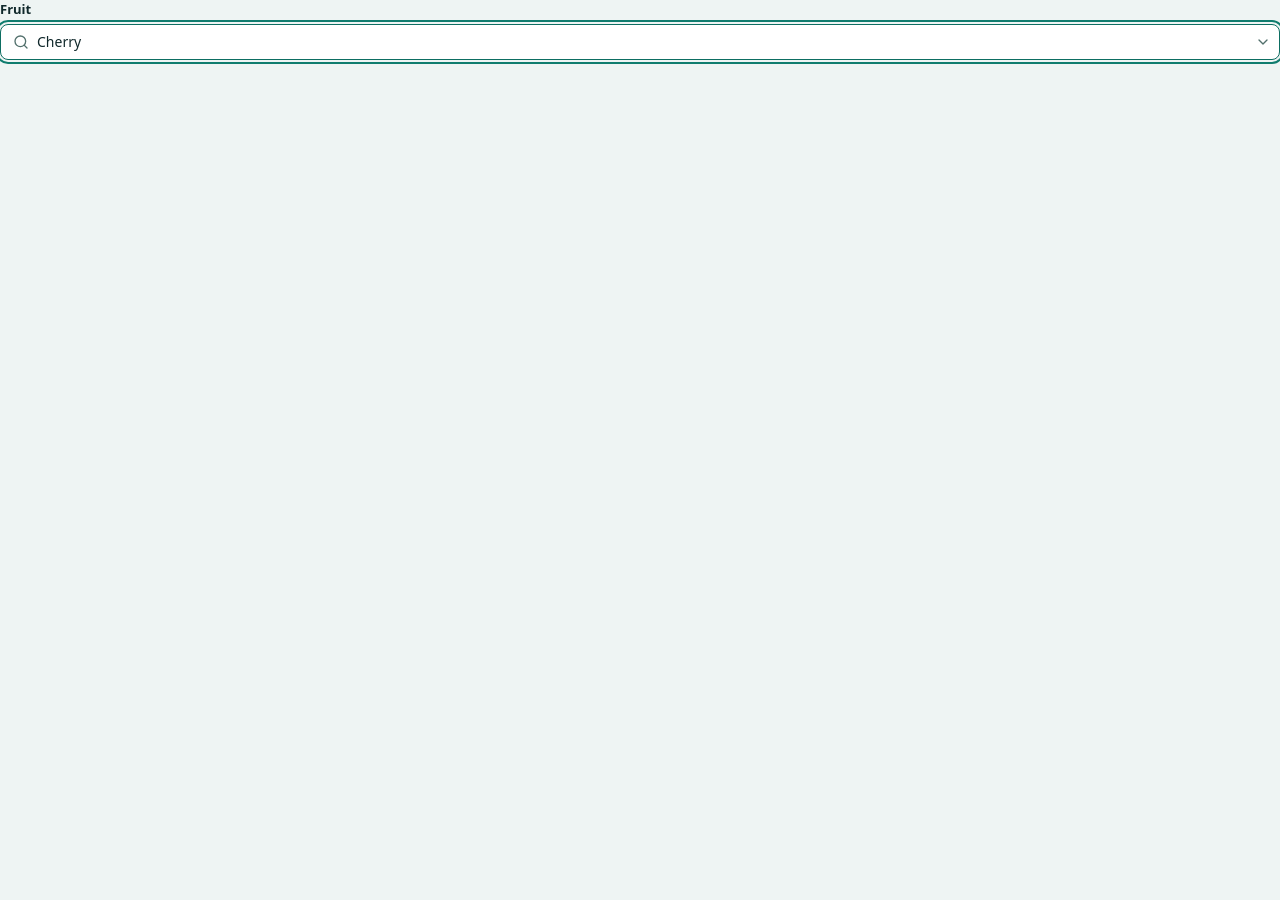
Test case: Combobox › Alt+↓ abre; Esc fecha; com a lista fechada, Esc volta ao valor escolhido
Type keys "{Alt>}{ArrowDown}{/Alt}"
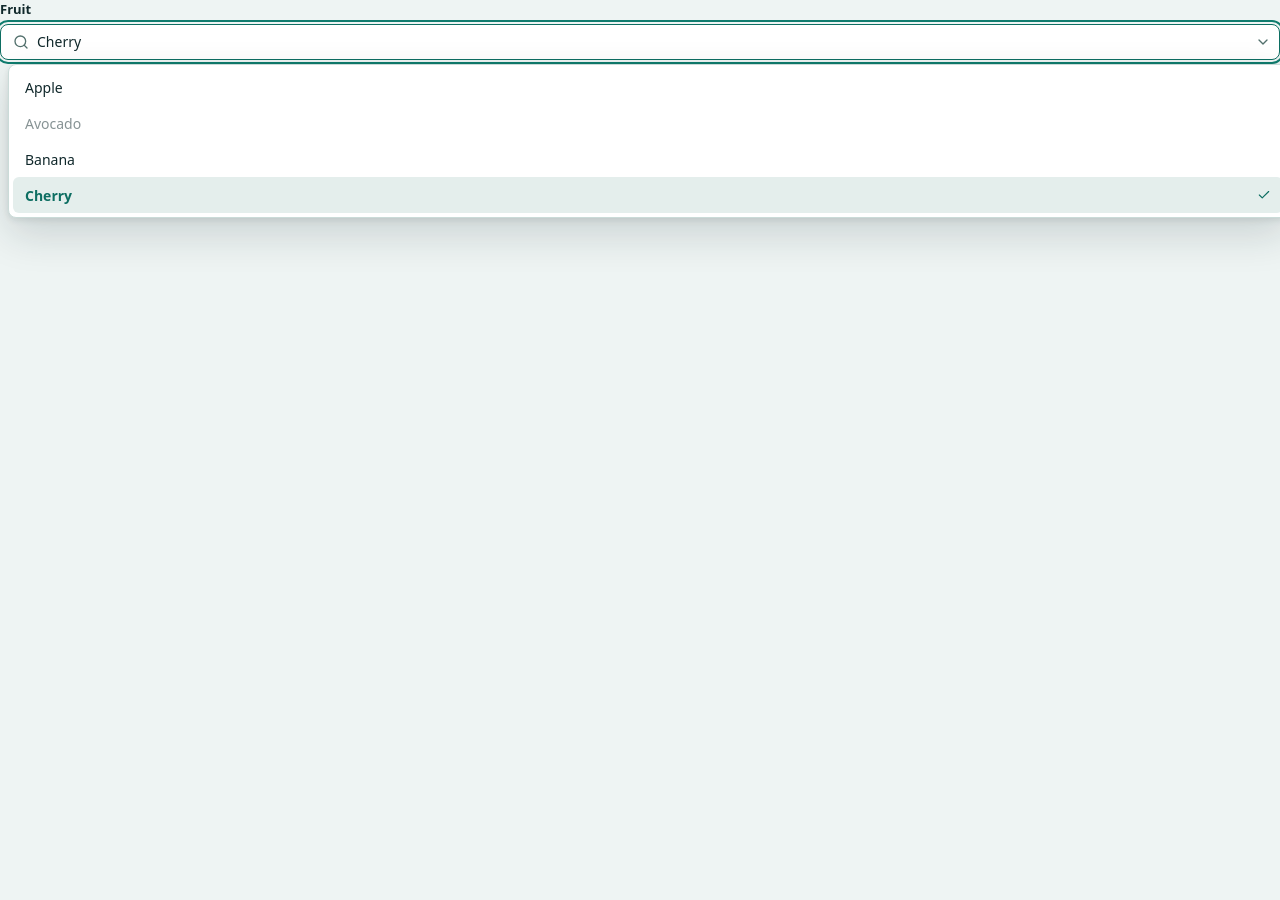
Press Escape
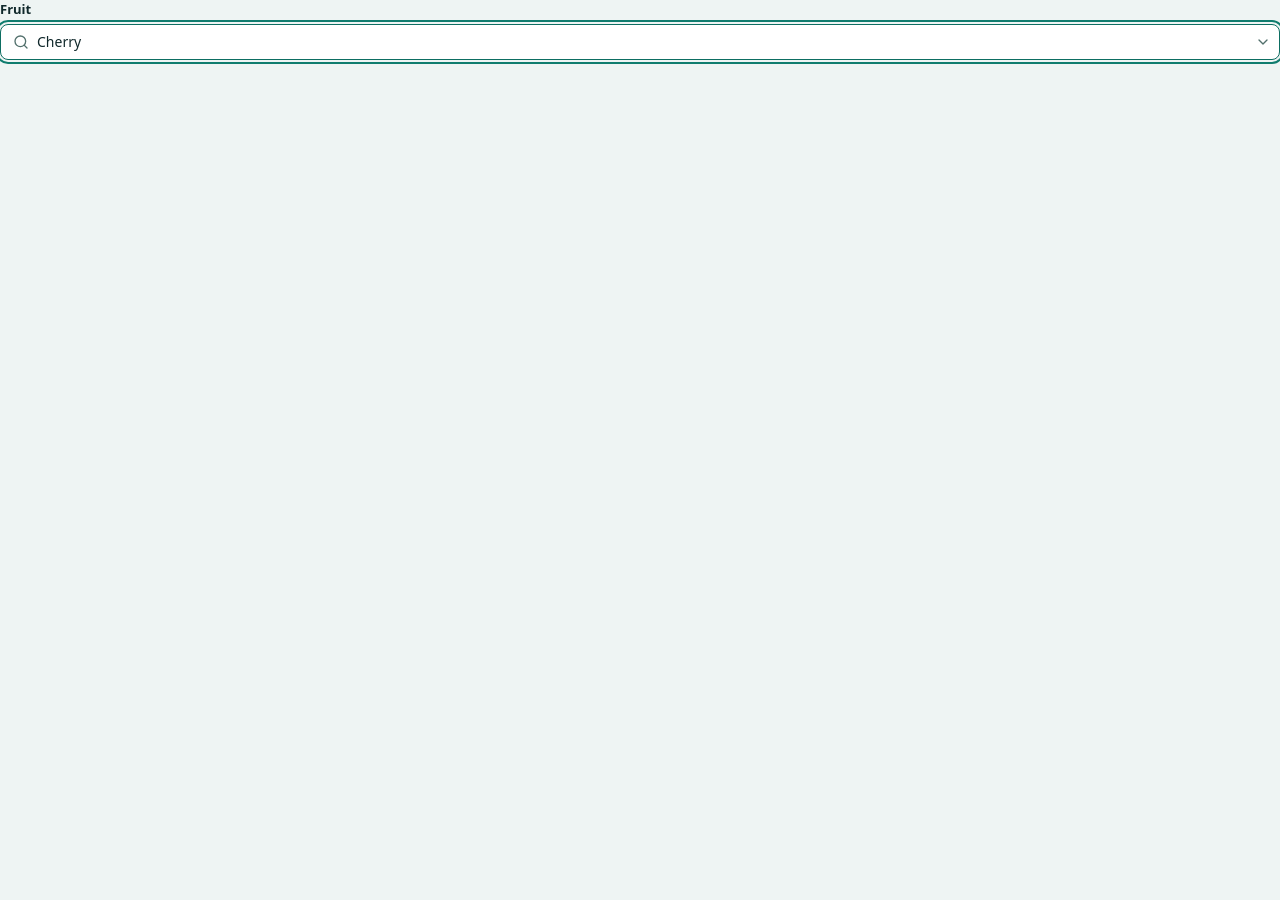
Replace the text in the dropdown labelled "Fruit" with "ban" at (640, 42), box [37, 24, 1243, 58]
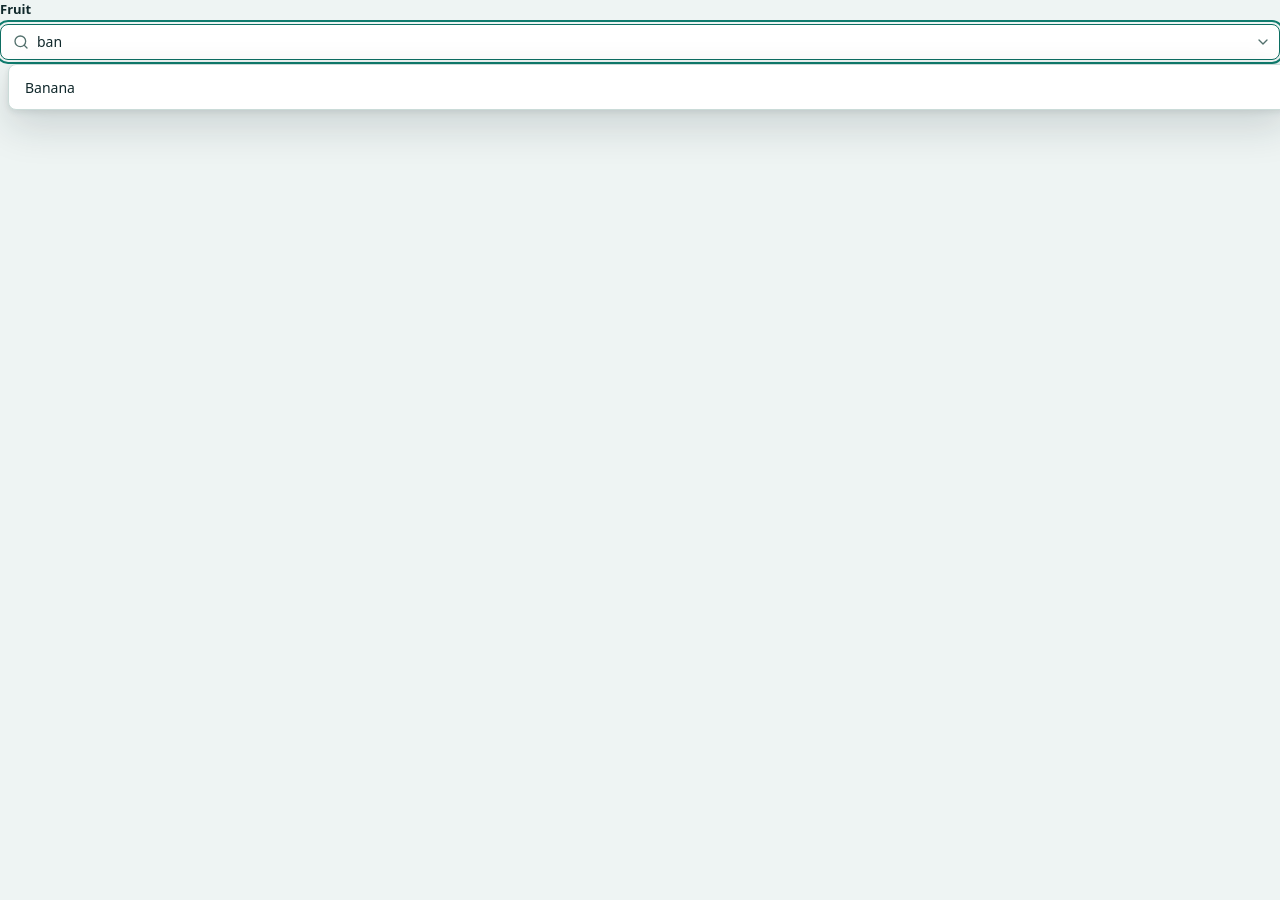
Press Escape
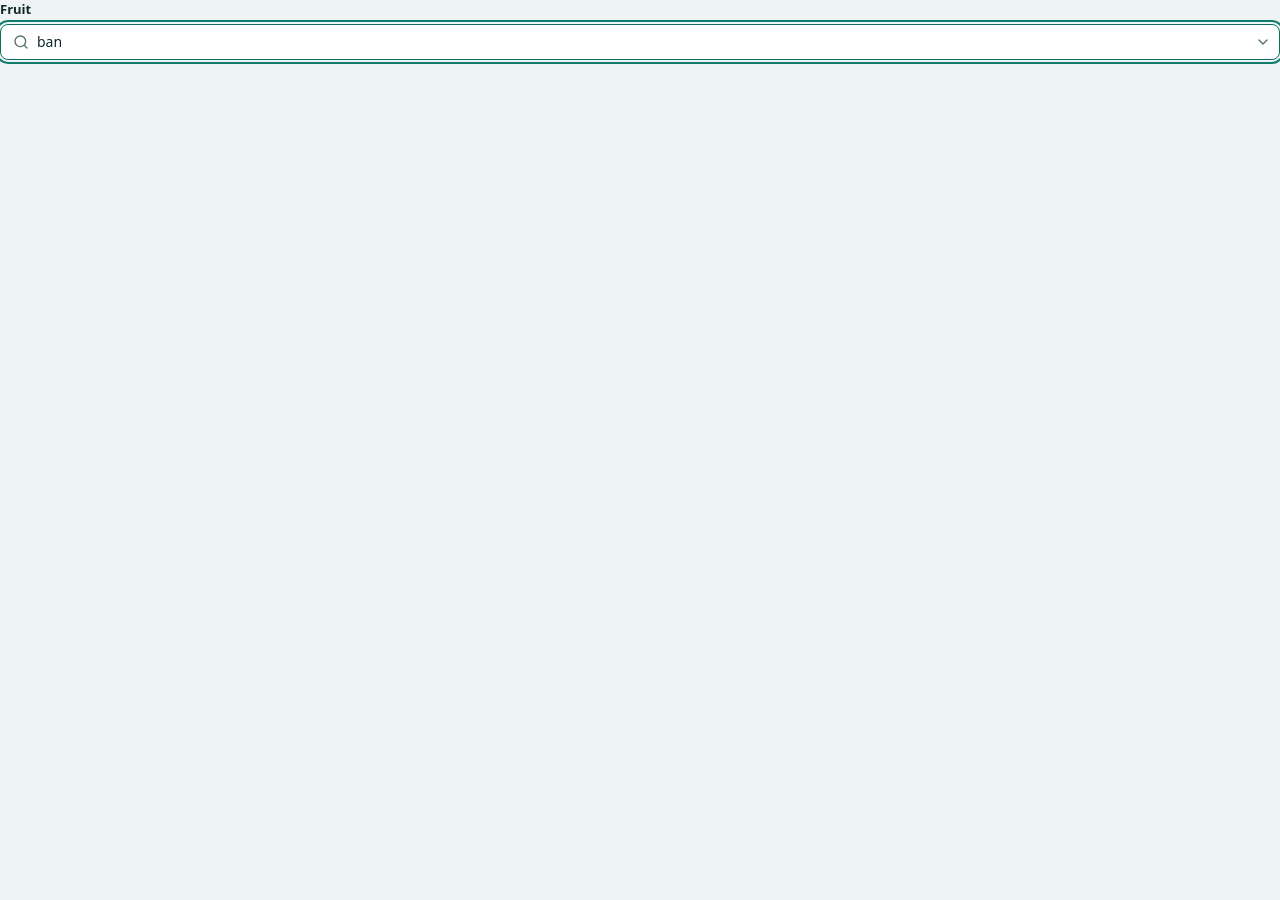
Press Escape
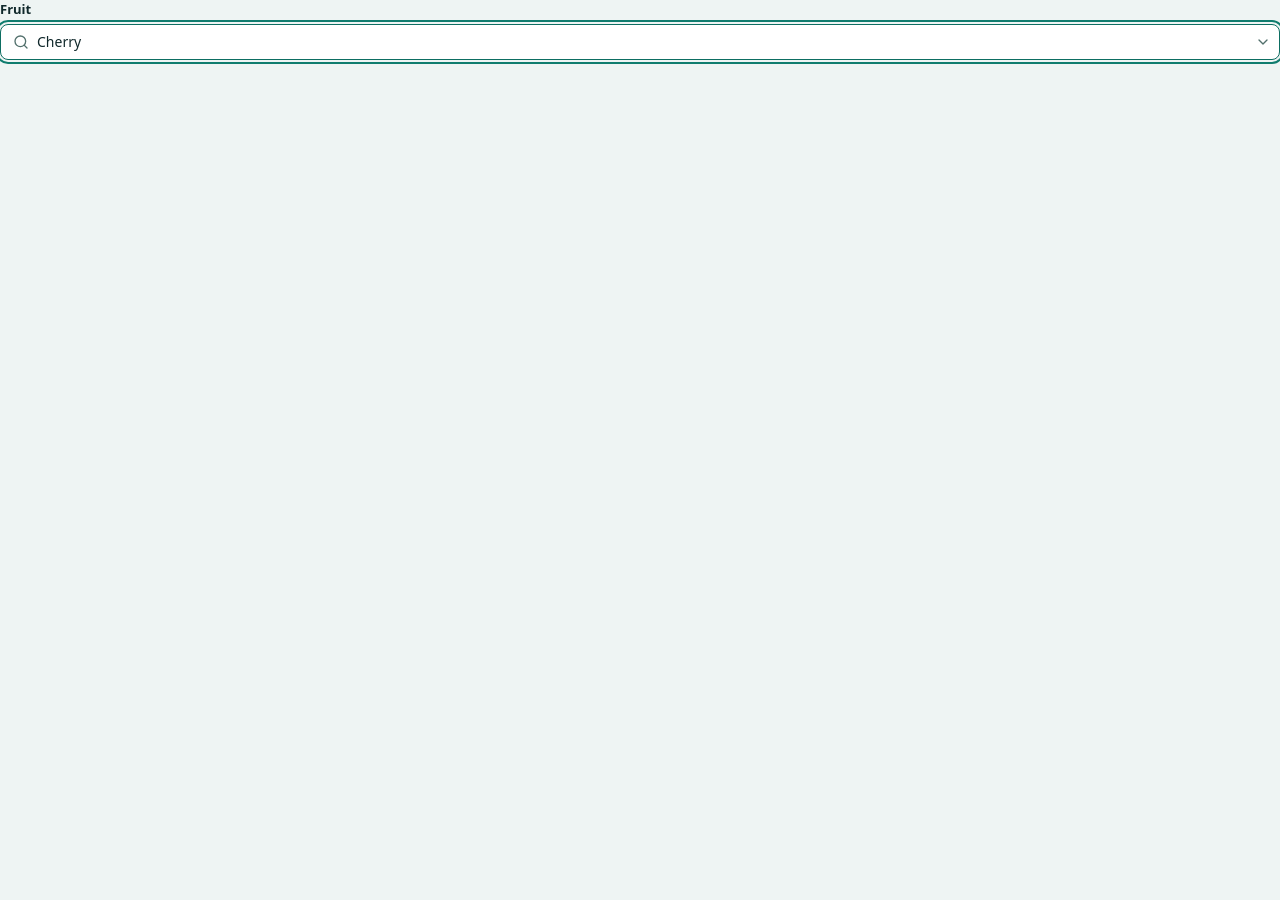
Check: the dropdown labelled "Fruit" holds "Cherry", box [37, 24, 1243, 58]
